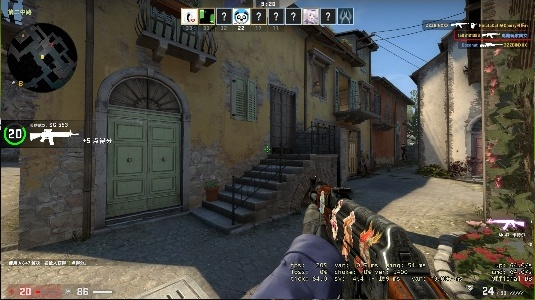body: (400, 143, 409, 161)
head: (402, 143, 406, 147)
